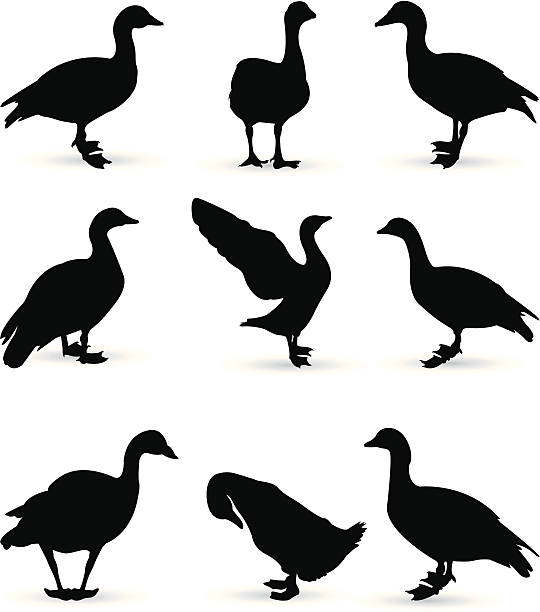goose: (361, 424, 540, 603), (1, 428, 180, 605), (369, 1, 540, 173), (1, 4, 166, 172), (373, 213, 540, 375), (187, 195, 337, 373), (1, 204, 142, 373), (203, 469, 373, 606), (226, 1, 319, 173)
